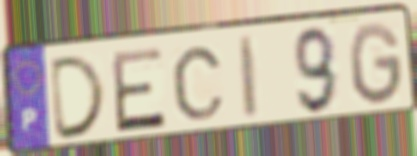9: (292, 24, 341, 118)
C: (169, 44, 227, 123)
D: (48, 52, 110, 144)
E: (108, 44, 169, 136)
G: (346, 20, 406, 109)
I: (236, 33, 261, 123)
